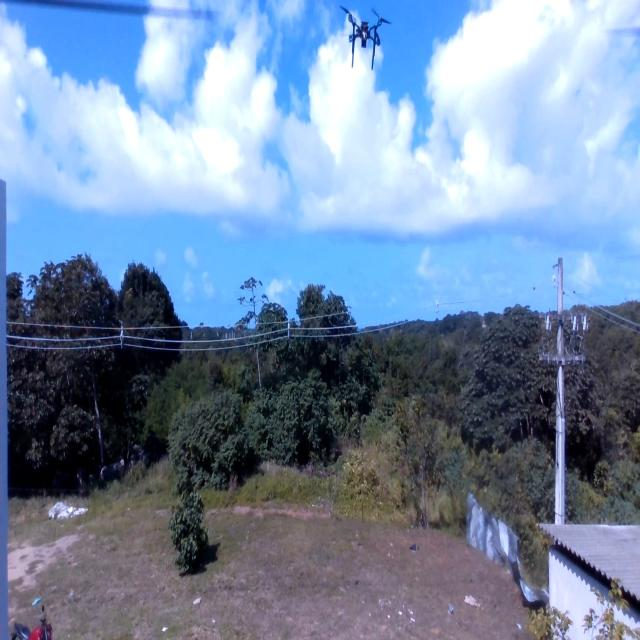-uav-: (336, 1, 393, 80)
